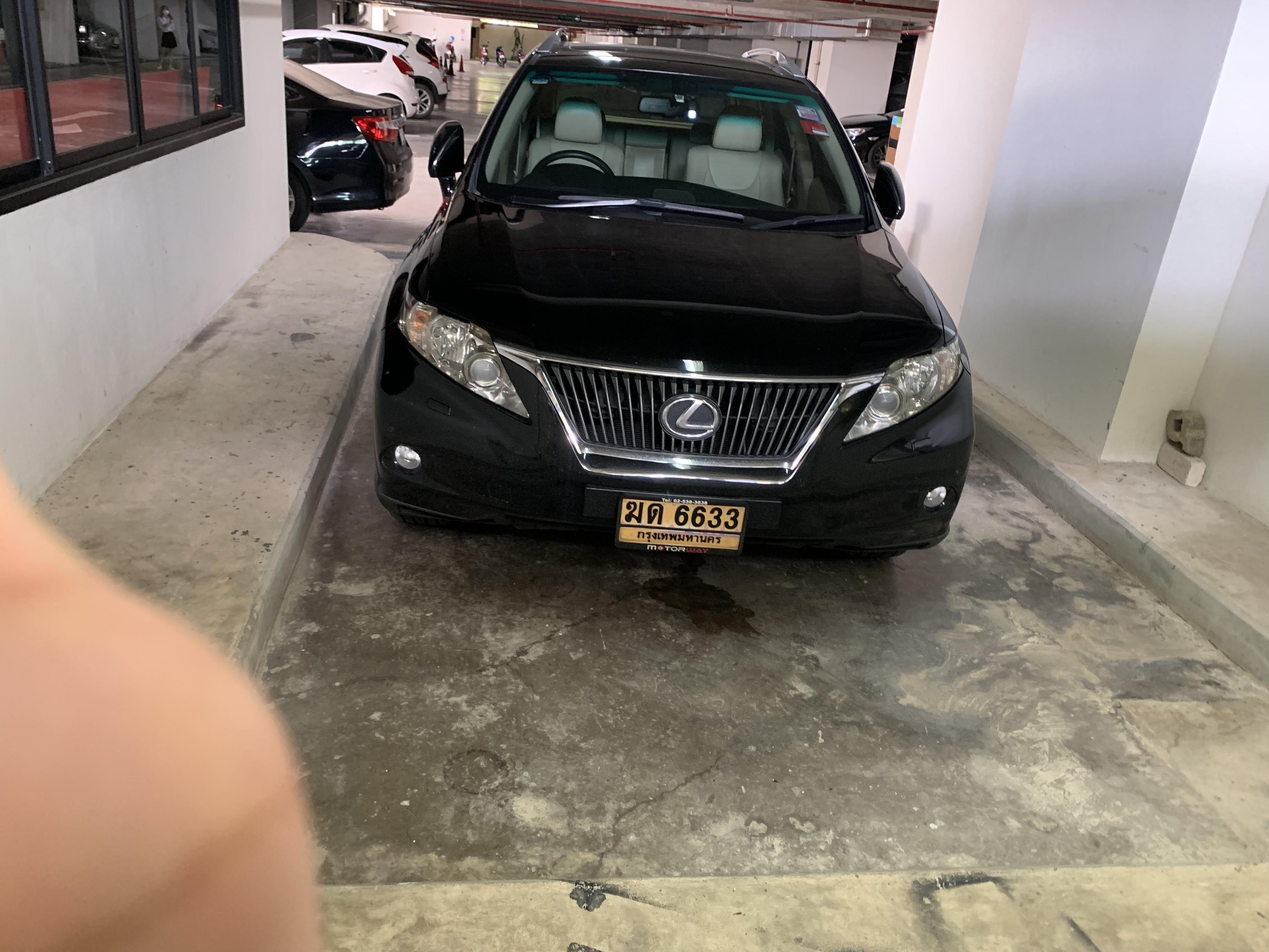license-plate: (616, 486, 750, 559)
